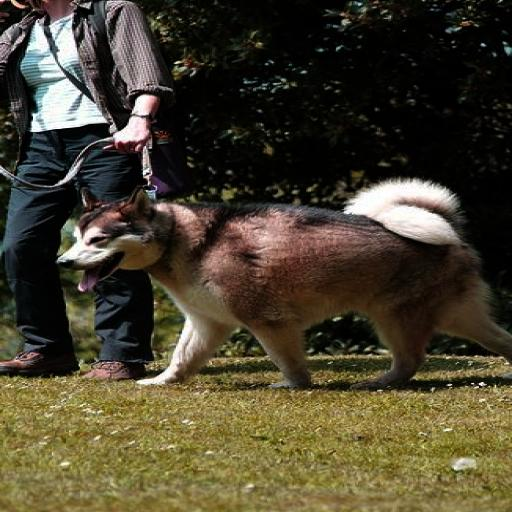dog_face: (53, 185, 162, 285)
